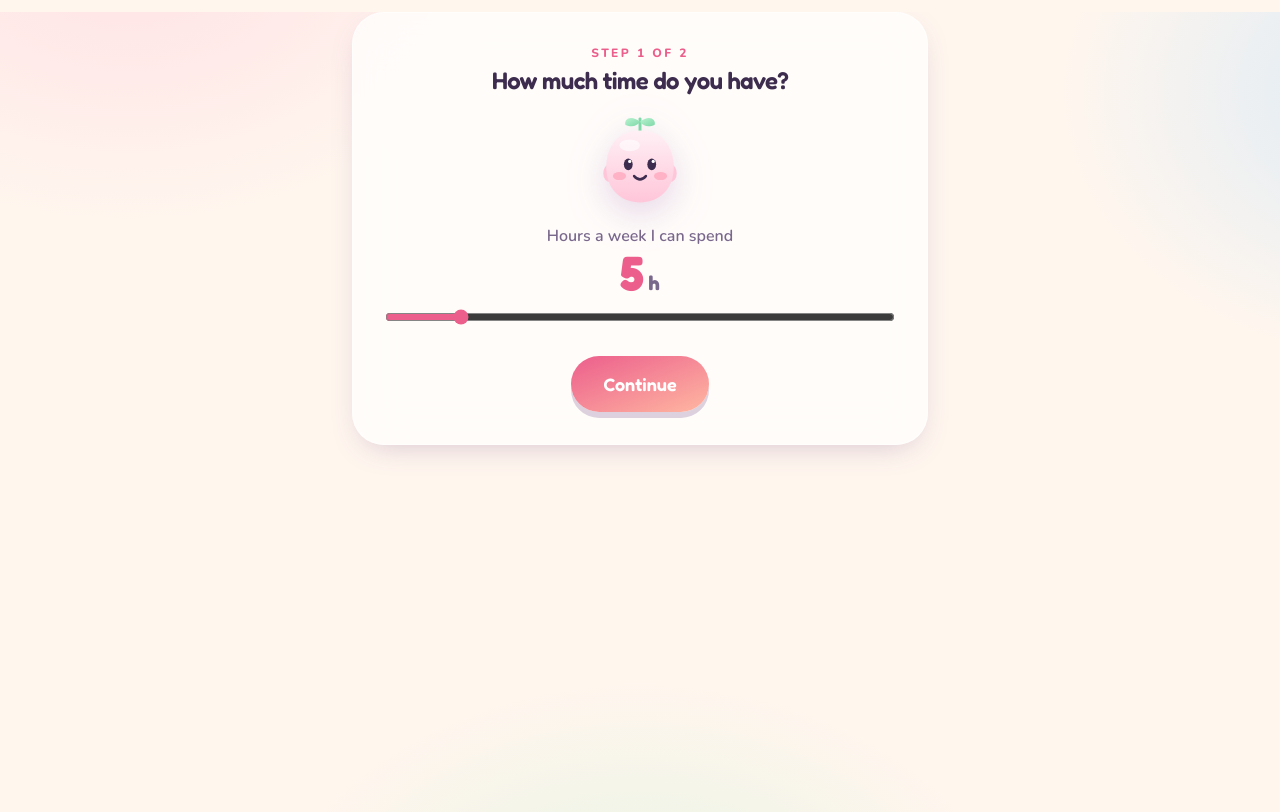
Test: PlacementQuiz › shows progress through the questions
Click the button "Continue" at (640, 384), box [571,356,709,412]
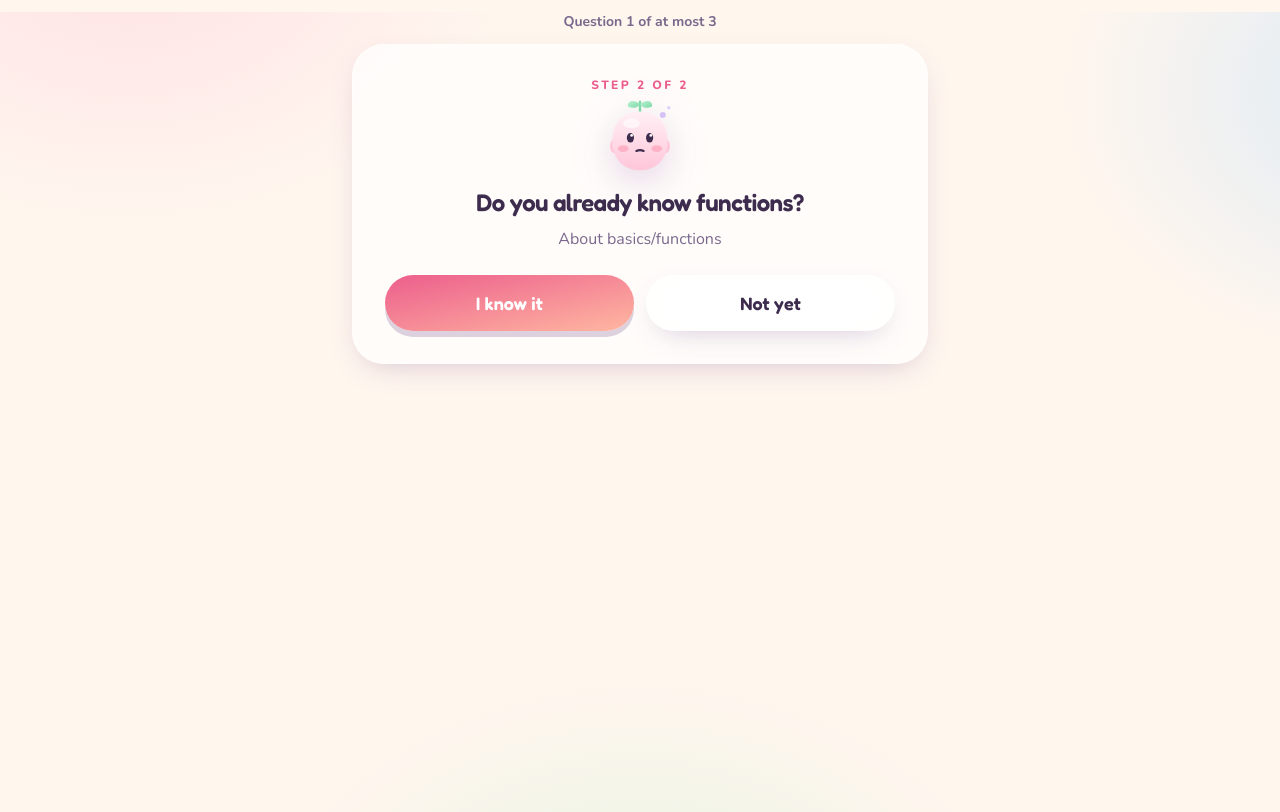
Result: the text "Question 1 of at most 3" is shown at [563,12,717,31]
Click the button "Not yet" at (770, 303), box [646,275,895,331]
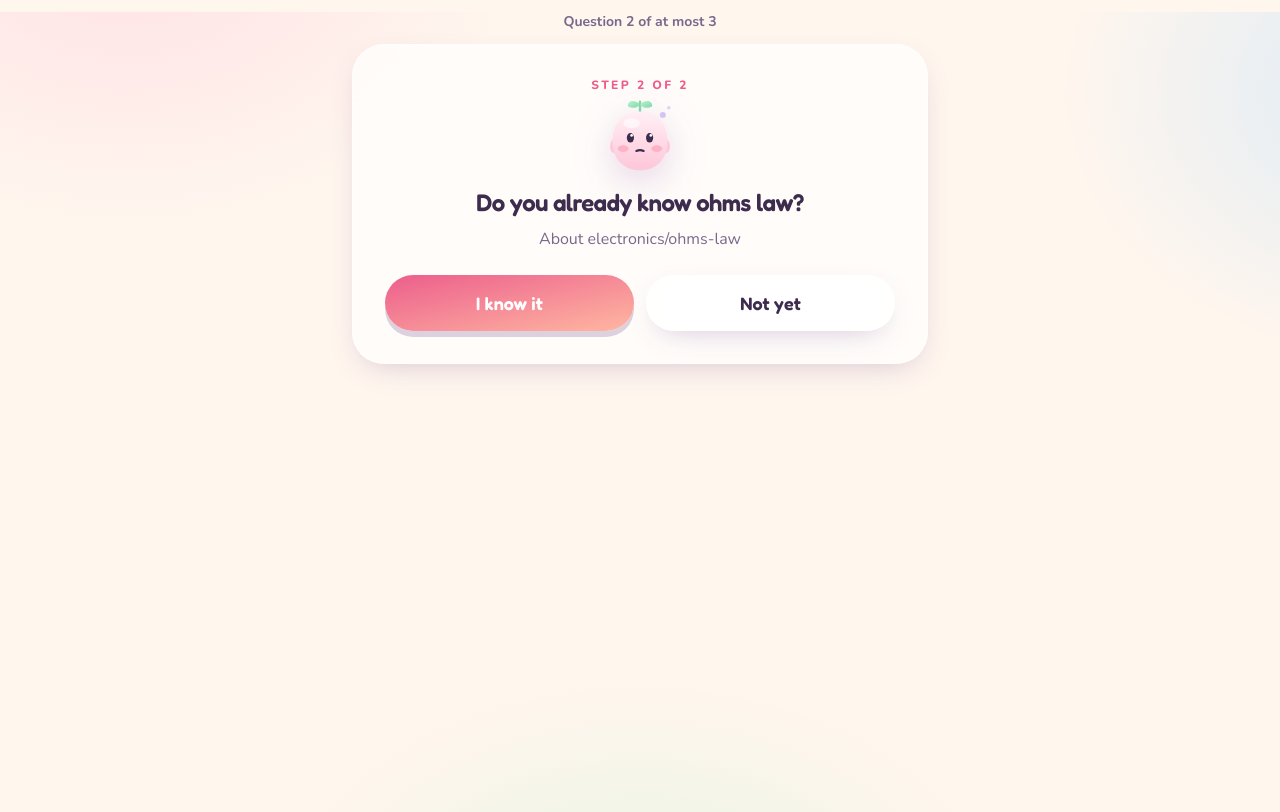
Result: the text "Question 2 of at most 3" is shown at [563,12,717,31]
